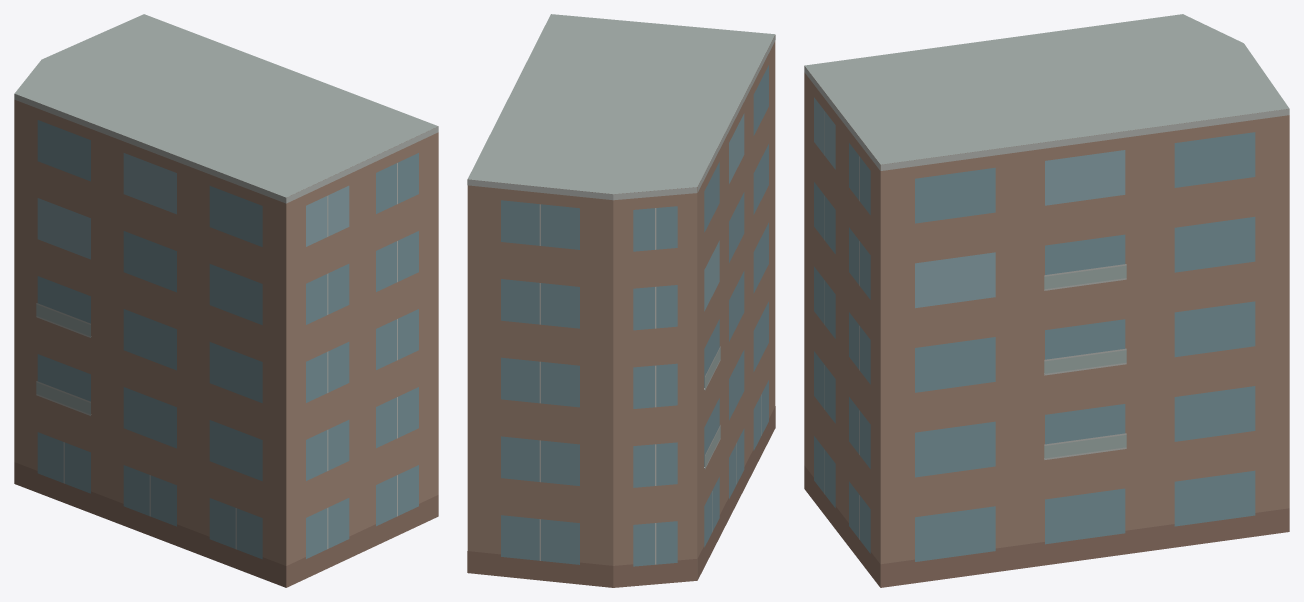
File: survey-upis-32909720.glb
3 renders of one model, left to right at view 1: azimuth 30°, elevation 25°; view 2: azimuth 150°, elevation 25°; view 3: azimuth 270°, elevation 25°, orthographic. The views are drawn at different scales.
Visible parts, largest first — view 1: survey-upis-32909720.tmp; view 2: survey-upis-32909720.tmp; view 3: survey-upis-32909720.tmp.
Boxes of the visible parts, x1,y1,x2,y2 form: survey-upis-32909720.tmp: (14,14,438,587); survey-upis-32909720.tmp: (467,14,775,587); survey-upis-32909720.tmp: (804,14,1289,587).
Size of the model in its own units: 12.19 by 15.95 by 16.59.
